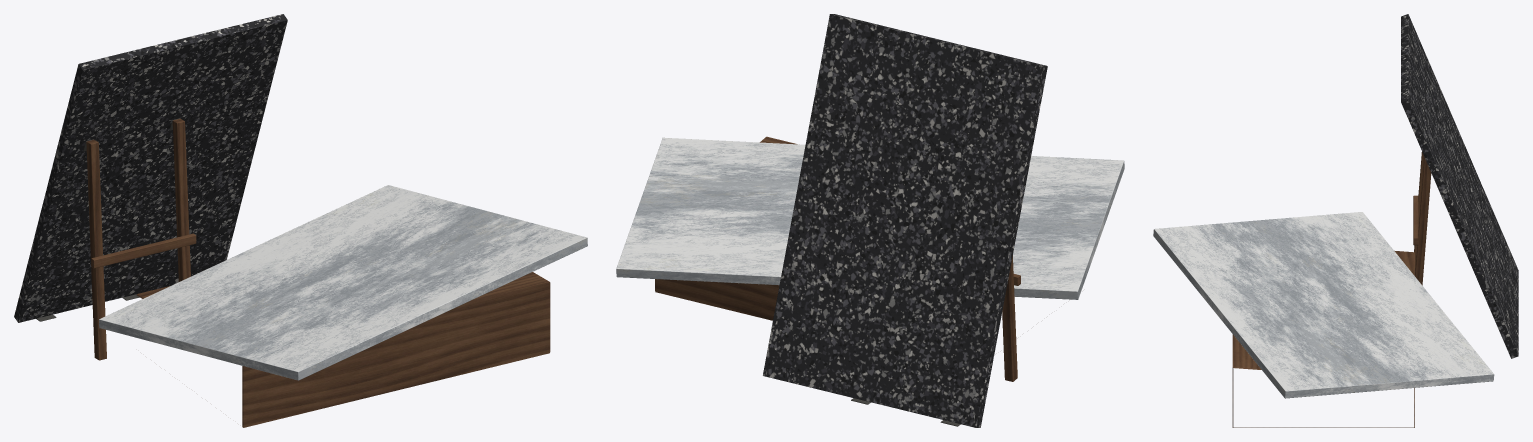
The picture shows the model from 3 angles, left to right: view 1: azimuth 30°, elevation 25°; view 2: azimuth 150°, elevation 25°; view 3: azimuth 270°, elevation 25°; orthographic projection. The views are drawn at different scales.
Parts seen in each view (by area): view 1: GraniteSlab, MarbleSlab, Plinth, EaselLeg_1, EaselLeg_2, EaselRail; view 2: GraniteSlab, MarbleSlab, Plinth, EaselLeg_1; view 3: MarbleSlab, GraniteSlab, Plinth, EaselLeg_2.
Boxes of the visible parts, <box> form: GraniteSlab: <box>14,14,287,322</box>; MarbleSlab: <box>99,185,587,380</box>; Plinth: <box>136,272,550,427</box>; EaselLeg_1: <box>86,139,106,360</box>; EaselLeg_2: <box>172,118,190,281</box>; EaselRail: <box>91,233,196,268</box>; GraniteSlab: <box>763,14,1047,427</box>; MarbleSlab: <box>616,137,1124,299</box>; Plinth: <box>655,136,797,320</box>; EaselLeg_1: <box>1002,255,1017,381</box>; MarbleSlab: <box>1153,212,1494,398</box>; GraniteSlab: <box>1401,14,1518,358</box>; Plinth: <box>1232,250,1414,427</box>; EaselLeg_2: <box>1415,157,1431,285</box>.
Bounding box in the file's own units: 2.16 × 1.42 × 1.8.
4 materials, 4 textured.
